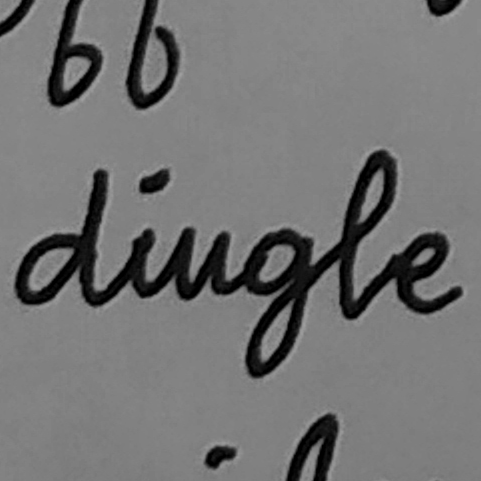d: (8, 163, 112, 313)
e: (389, 227, 466, 315)
g: (239, 221, 318, 382)
i: (119, 169, 161, 303)
l: (333, 143, 402, 323)
n: (165, 219, 235, 306)
